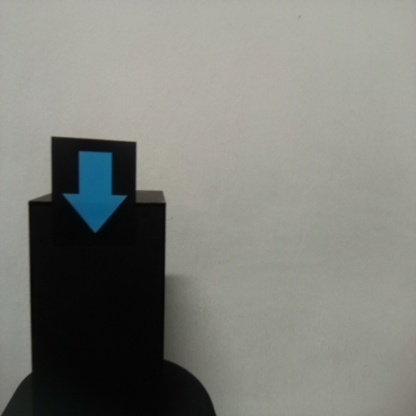id_2: (50, 138, 137, 252)
